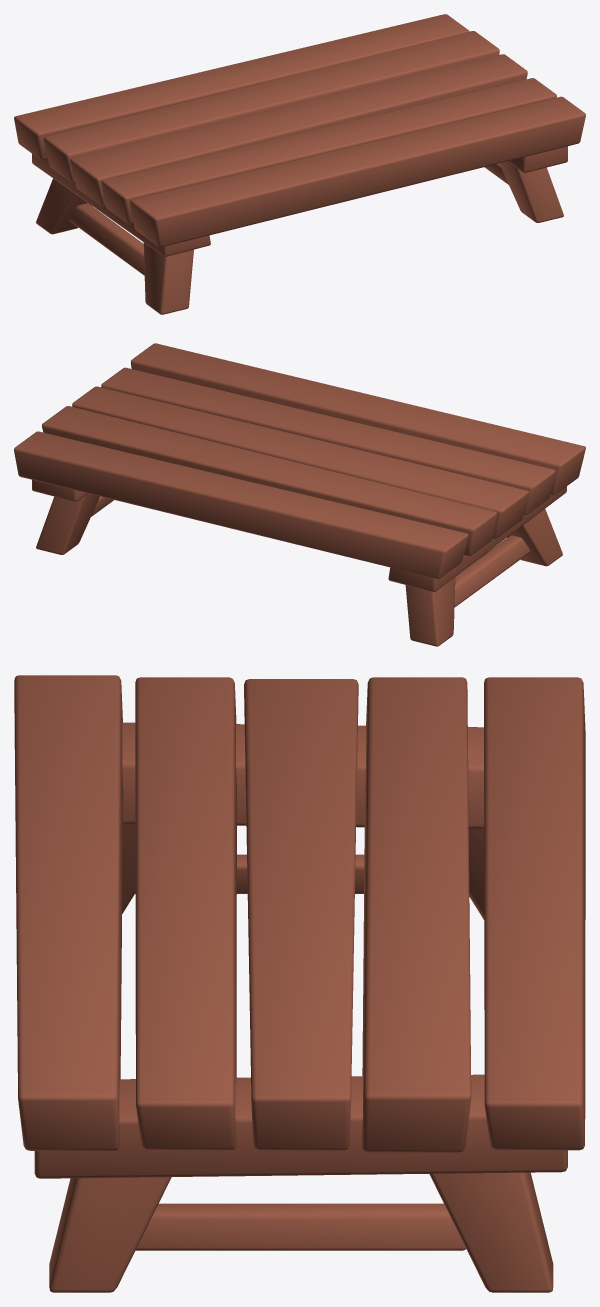
The model's file is table_large.glb.
3 renders of one model, top to bottom at view 1: azimuth 30°, elevation 25°; view 2: azimuth 150°, elevation 25°; view 3: azimuth 270°, elevation 25°, orthographic. The views are drawn at different scales.
Parts seen in each view (by area): view 1: tableLarge; view 2: tableLarge; view 3: tableLarge.
Boxes of the visible parts, left/top/right/bottom form: tableLarge: left=14, top=14, right=585, bottom=314; tableLarge: left=14, top=343, right=585, bottom=646; tableLarge: left=14, top=675, right=585, bottom=1292.
Bounding box in the file's own units: 3 × 0.7075 × 1.72.
